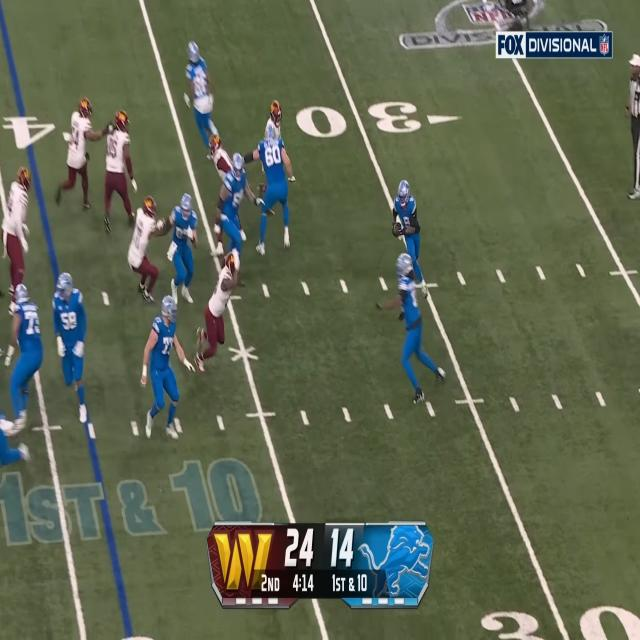Ball: (392, 223, 402, 237)
